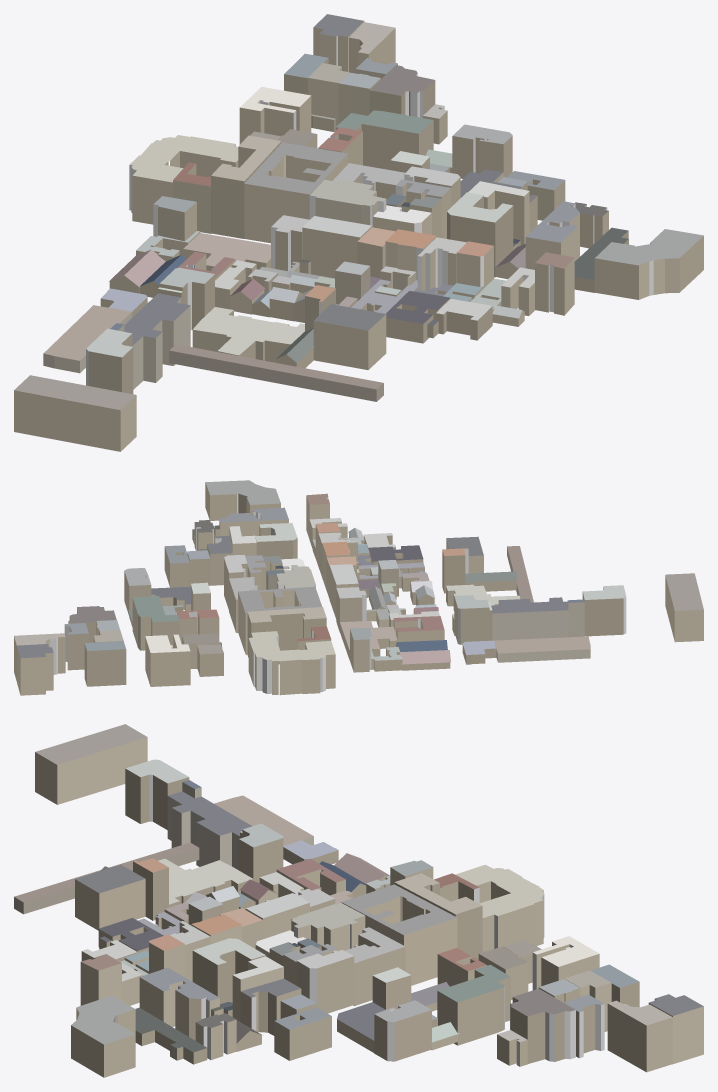
3 views of the same model, one above another, from view 1: azimuth 30°, elevation 25°; view 2: azimuth 150°, elevation 25°; view 3: azimuth 270°, elevation 25° (orthographic). The views are drawn at different scales.
Visible parts, largest first — view 1: tuile; view 2: tuile; view 3: tuile.
Boxes of the visible parts, x1,y1,x2,y2 form: tuile: [14, 14, 703, 451]; tuile: [14, 480, 703, 695]; tuile: [14, 724, 703, 1077].
Bounding box in the file's own units: 283 × 26.95 × 259.
